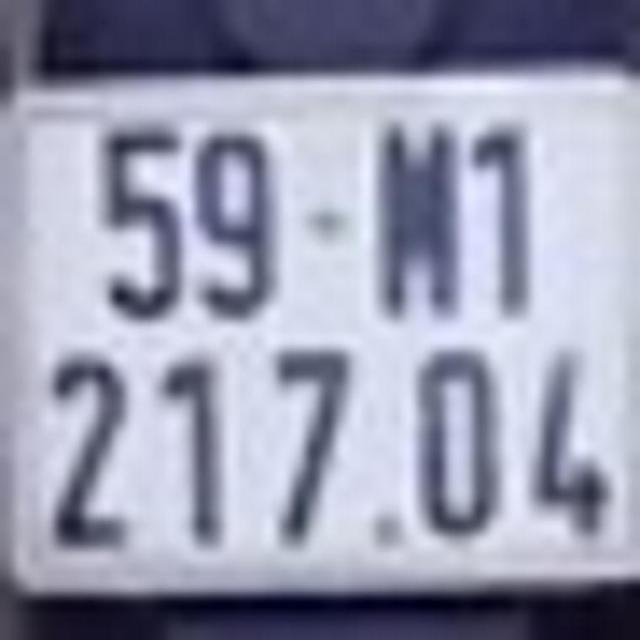0: (418, 348, 496, 535)
1: (472, 121, 530, 314), (165, 354, 222, 544)
2: (52, 359, 127, 546)
4: (535, 346, 614, 536)
5: (106, 132, 185, 316)
7: (276, 347, 350, 543)
9: (194, 131, 273, 319)
M: (380, 117, 460, 320)
